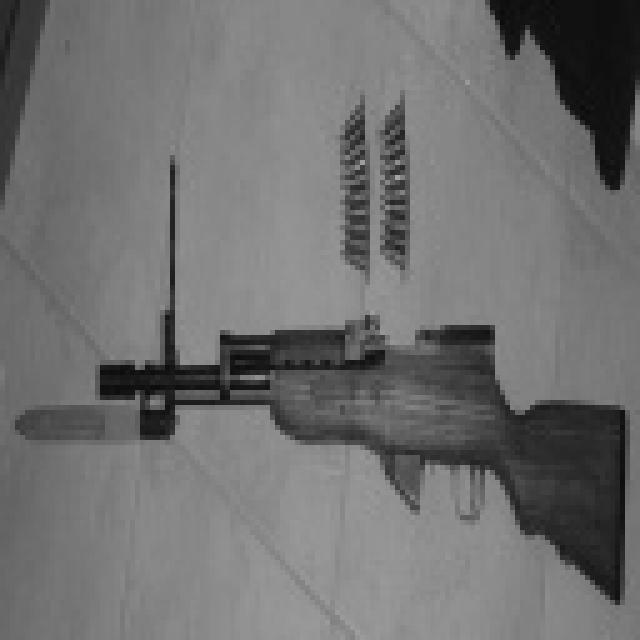Rifle: (0, 289, 640, 617)
